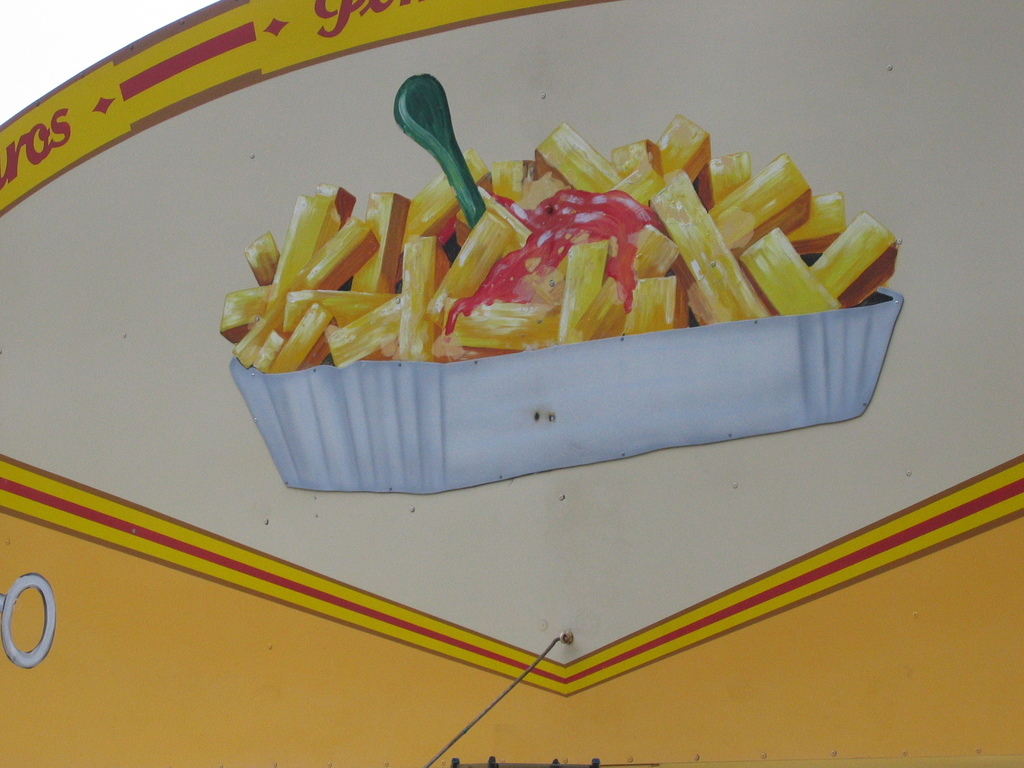French fries: (215, 117, 901, 364)
